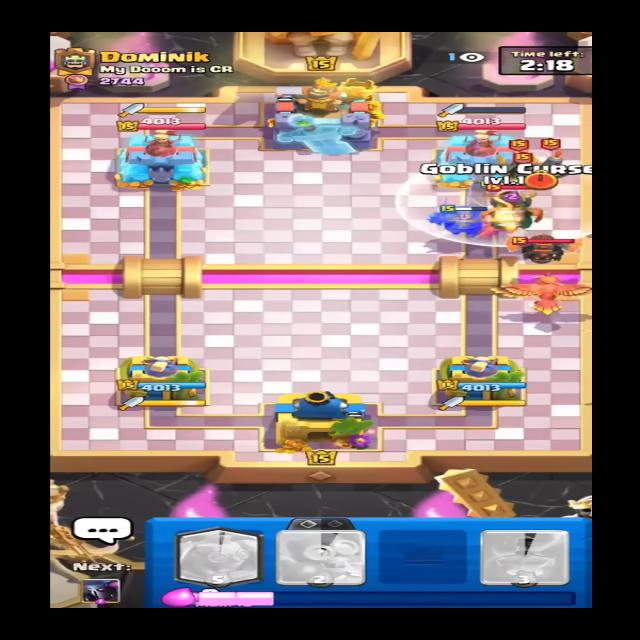guards: (533, 144, 576, 182)
inferno-dragon: (482, 182, 538, 230)
lava-hound: (509, 226, 584, 269)
